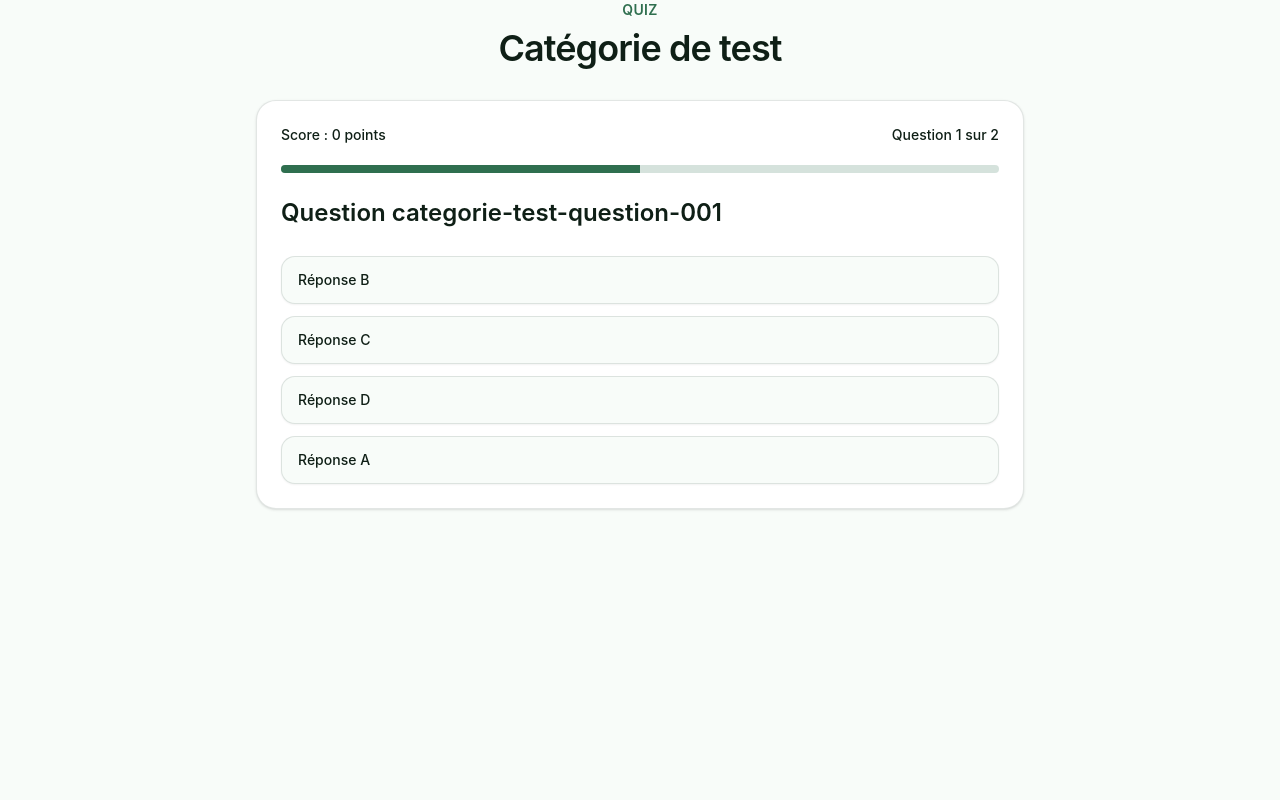
QuizRunner › identifie la mauvaise réponse choisie et la bonne réponse sans augmenter le score
expect the heading "Catégorie de test" is shown: met, box [498, 26, 782, 70]
Click the button "Réponse A" at {"x": 334, "y": 460}, box [281, 436, 999, 484]
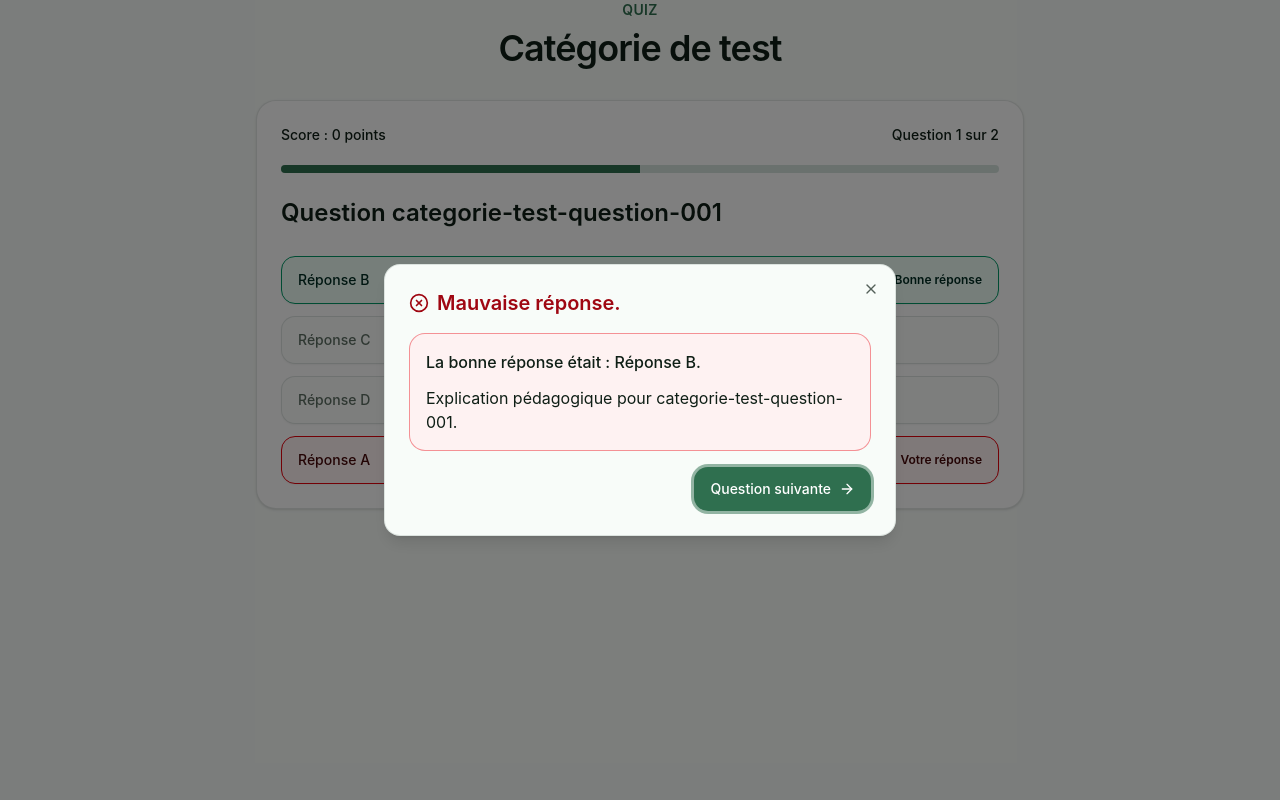
expect the heading "Mauvaise réponse." is shown: met, box [409, 291, 621, 315]
expect the dialog shows "La bonne réponse était : Réponse B.": met, box [384, 264, 896, 536]
expect the button "Réponse A Votre réponse" is disabled: met, box [281, 436, 999, 484]
